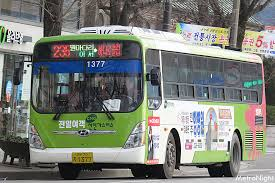bnum: (52, 44, 72, 59)
